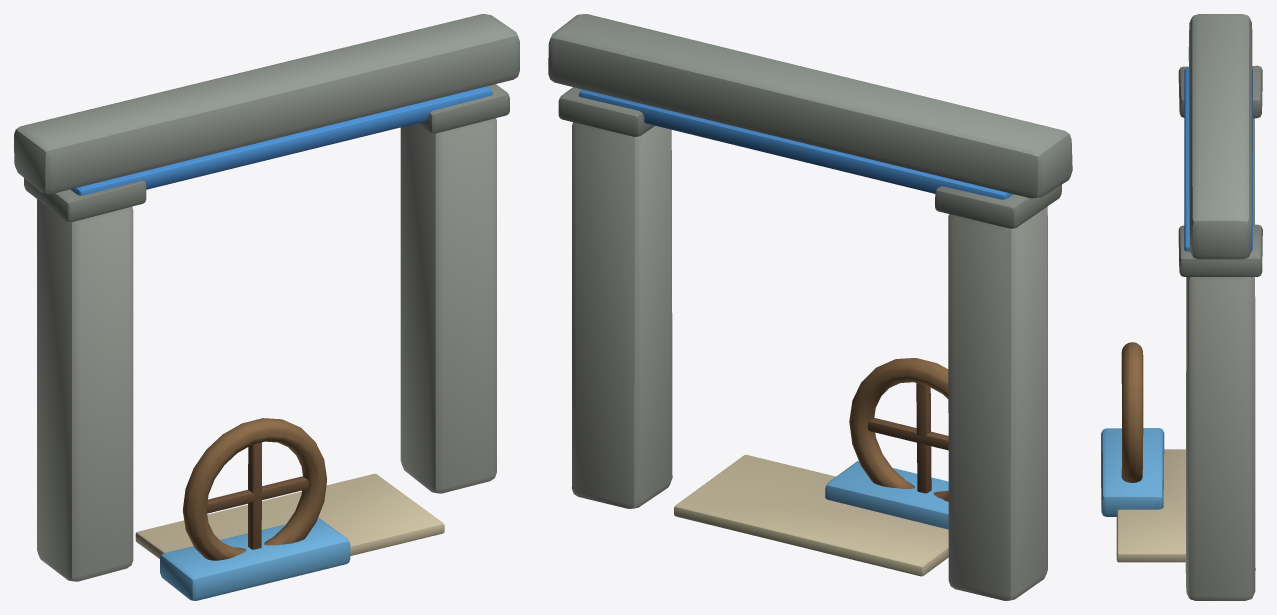
3 renders of one model, left to right at view 1: azimuth 30°, elevation 25°; view 2: azimuth 150°, elevation 25°; view 3: azimuth 270°, elevation 25°, orthographic. The views are drawn at different scales.
Visible parts, largest first — view 1: gate_50e4b53d; view 2: gate_50e4b53d; view 3: gate_50e4b53d.
Boxes of the visible parts, x1,y1,x2,y2 form: gate_50e4b53d: (14, 14, 519, 600); gate_50e4b53d: (548, 14, 1072, 600); gate_50e4b53d: (1101, 14, 1262, 600).
Bounding box in the file's own units: 4.78 × 4.21 × 1.56.
